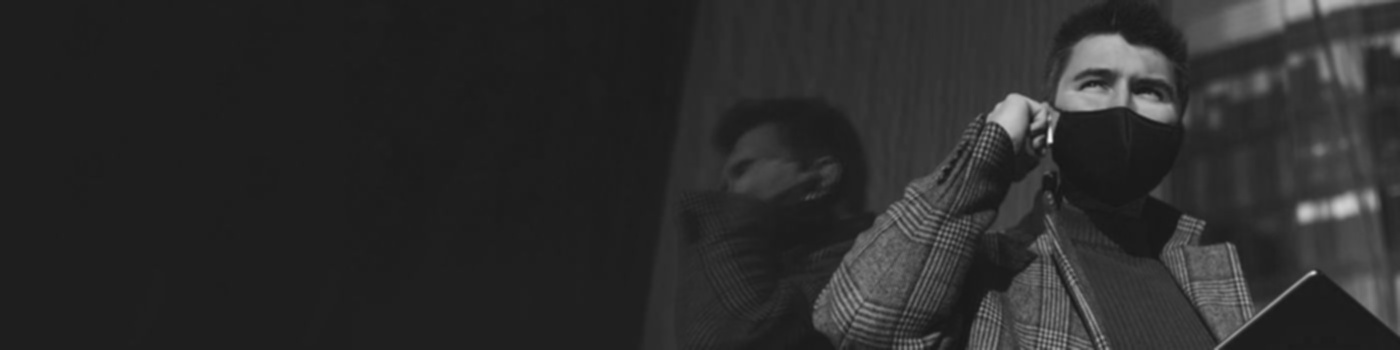earphone: (1037, 103, 1054, 150)
